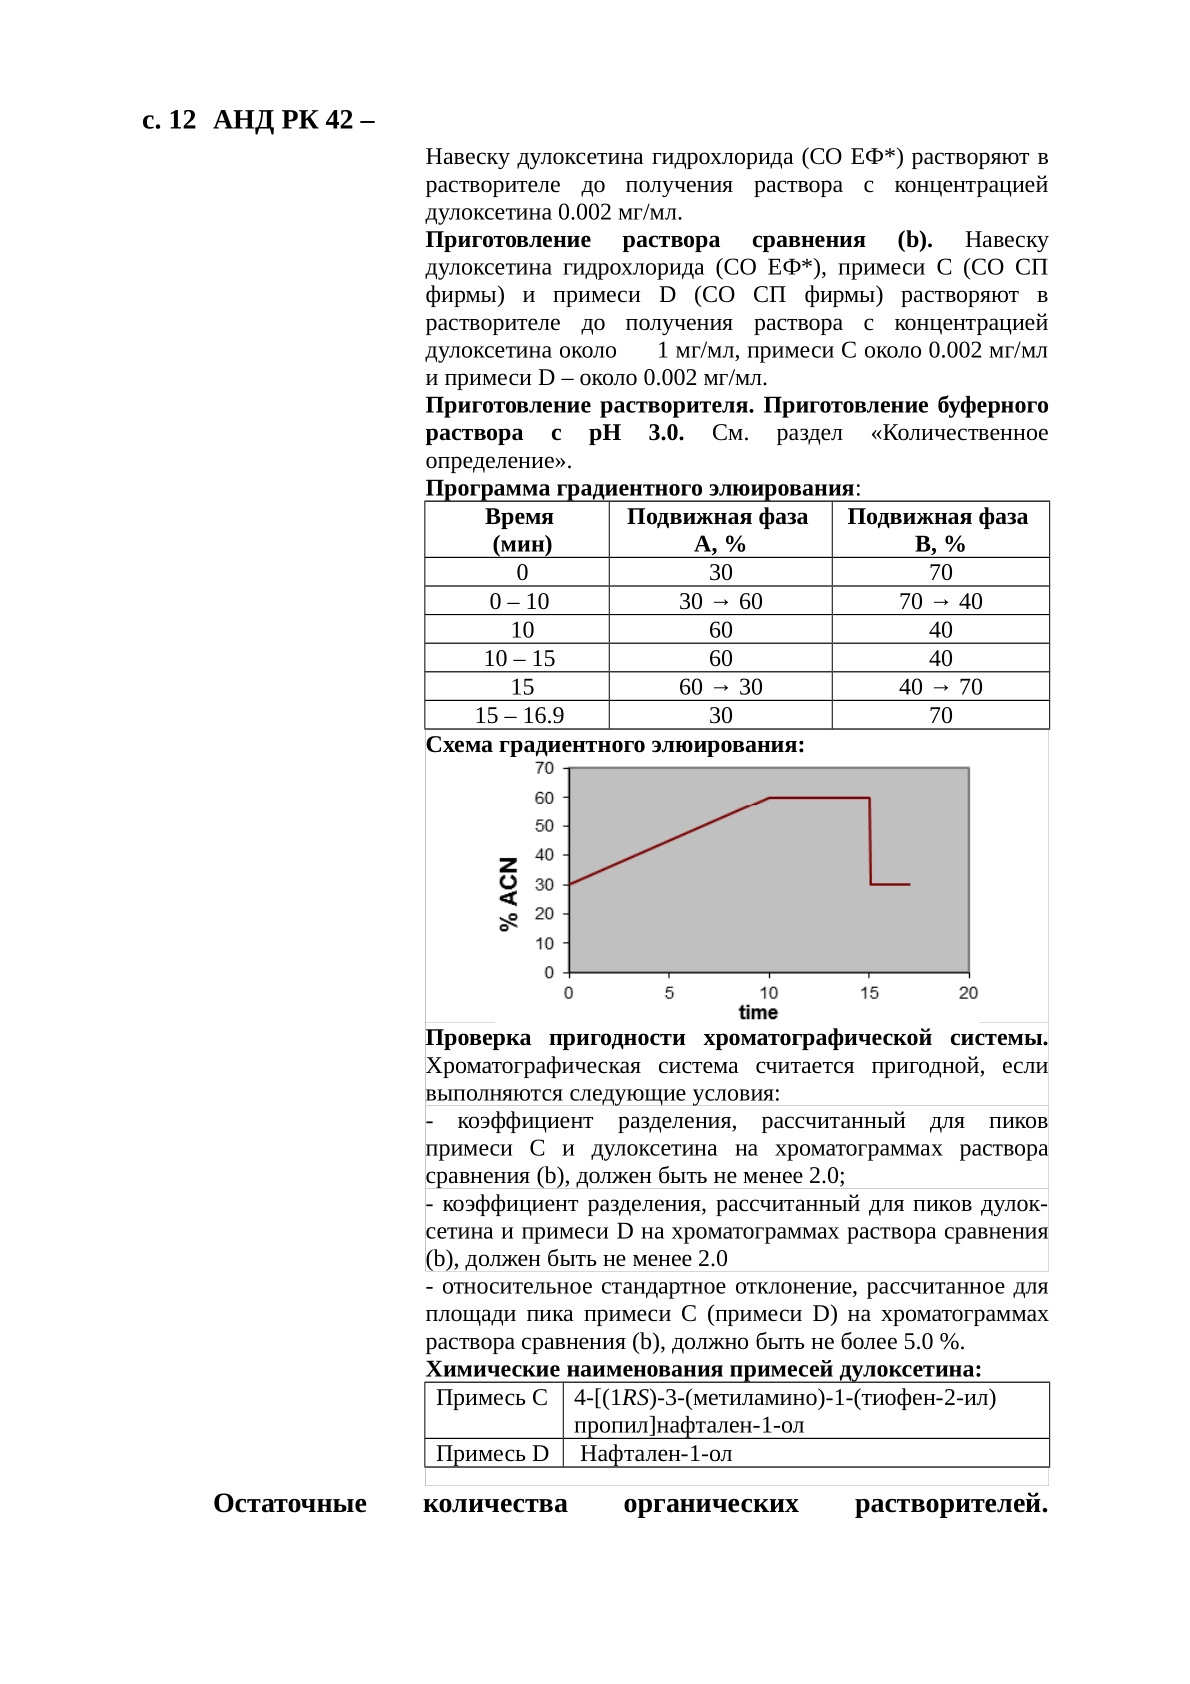full_lined: (422, 500, 1051, 731), (422, 1381, 1051, 1469)
